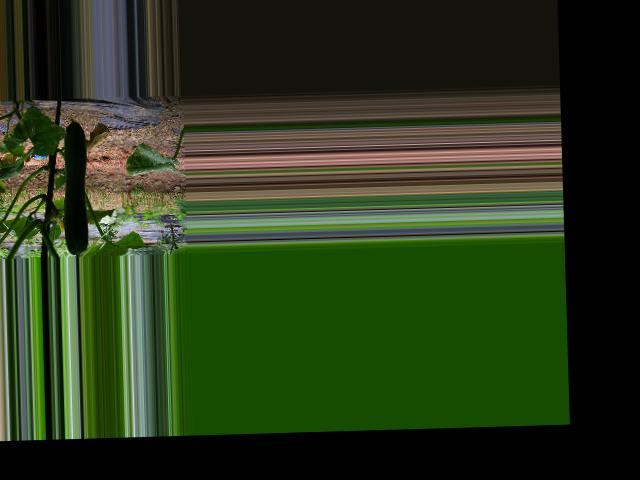cucumber: (61, 117, 90, 254)
